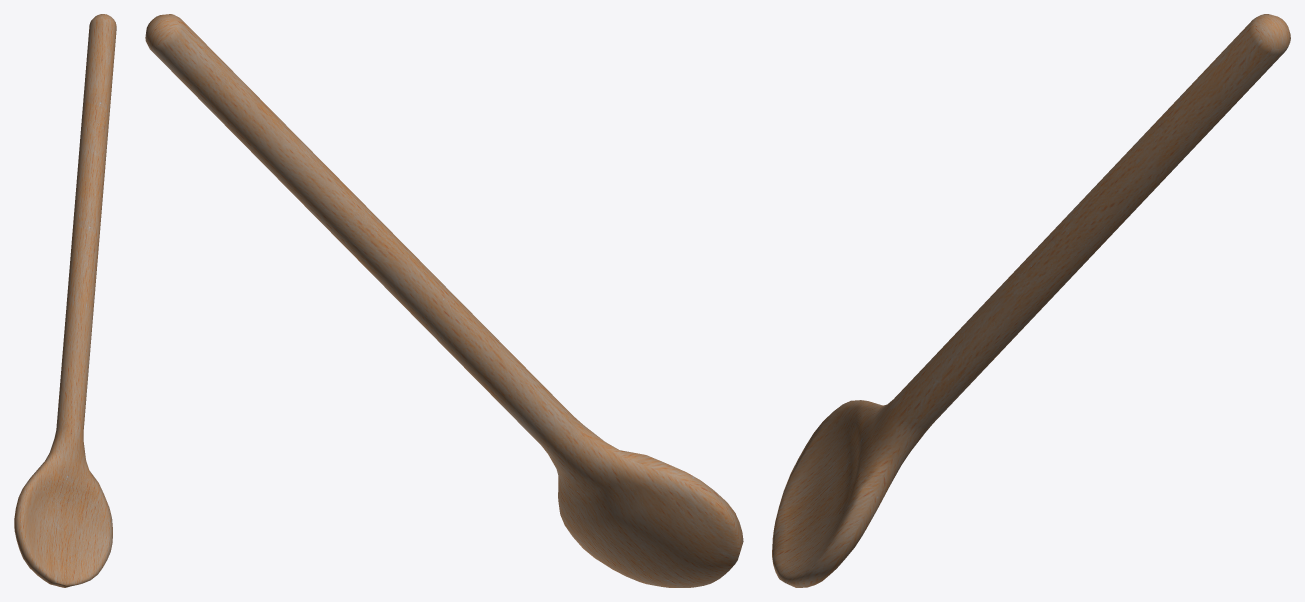
3 renders of one model, left to right at view 1: azimuth 30°, elevation 25°; view 2: azimuth 150°, elevation 25°; view 3: azimuth 270°, elevation 25°, orthographic. The views are drawn at different scales.
Visible parts, largest first — view 1: WoodenSpoon; view 2: WoodenSpoon; view 3: WoodenSpoon.
Boxes of the visible parts, <box> form: WoodenSpoon: <box>14,14,116,587</box>; WoodenSpoon: <box>145,14,743,587</box>; WoodenSpoon: <box>772,14,1290,587</box>.
Size of the model in its own units: 0.1121 by 0.1932 by 0.13.
Materials: 1 (1 with a texture image).
